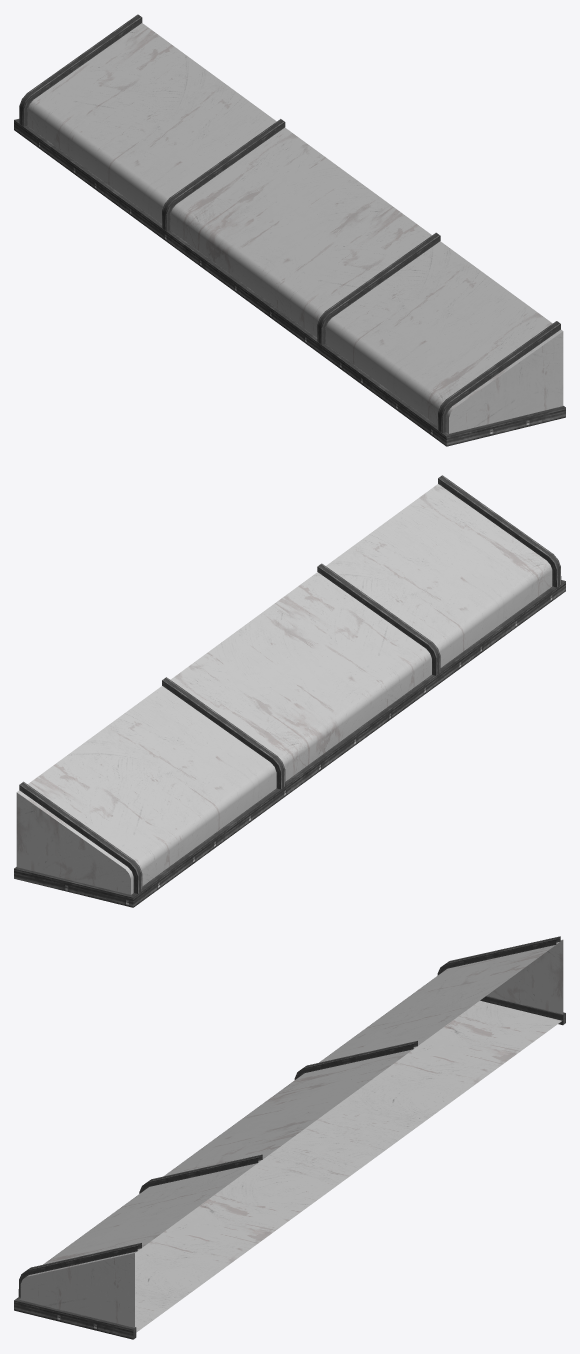
The model's file is CP_Canopy_04.fbx.
3 renders of one model, top to bottom at view 1: azimuth 30°, elevation 25°; view 2: azimuth 150°, elevation 25°; view 3: azimuth 330°, elevation 25°, orthographic.
Parts seen in each view (by area): view 1: CP_Canopy_04; view 2: CP_Canopy_04; view 3: CP_Canopy_04.
Part boxes in pixels (<box>): CP_Canopy_04: <box>14,14,565,446</box>; CP_Canopy_04: <box>14,475,565,907</box>; CP_Canopy_04: <box>14,936,565,1339</box>.
Size of the model in its own units: 113 by 81.51 by 707.
